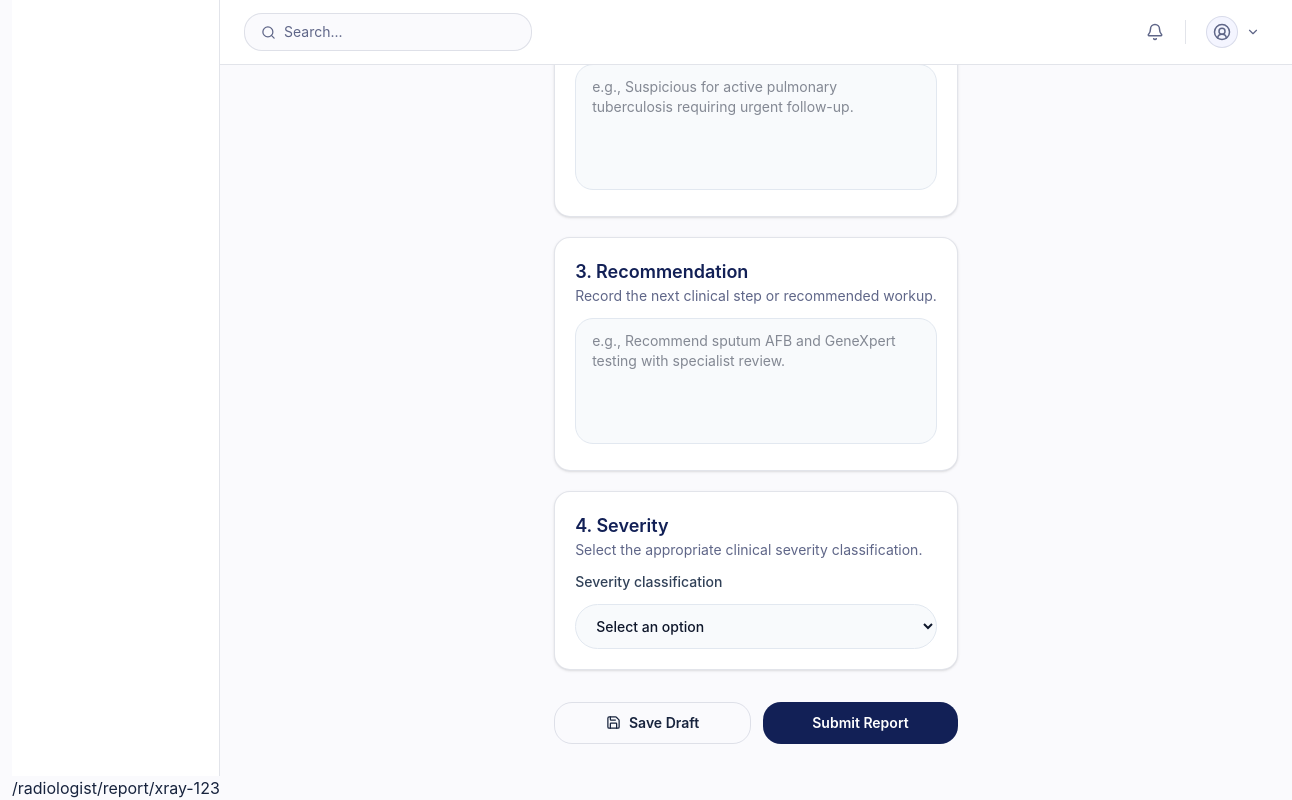
Test: ReportWritePage › clears a field error once the user types into the flagged field
(page scrolled)
Click the button "Submit Report" at (860, 722), box [763,702,958,744]
(page scrolled)
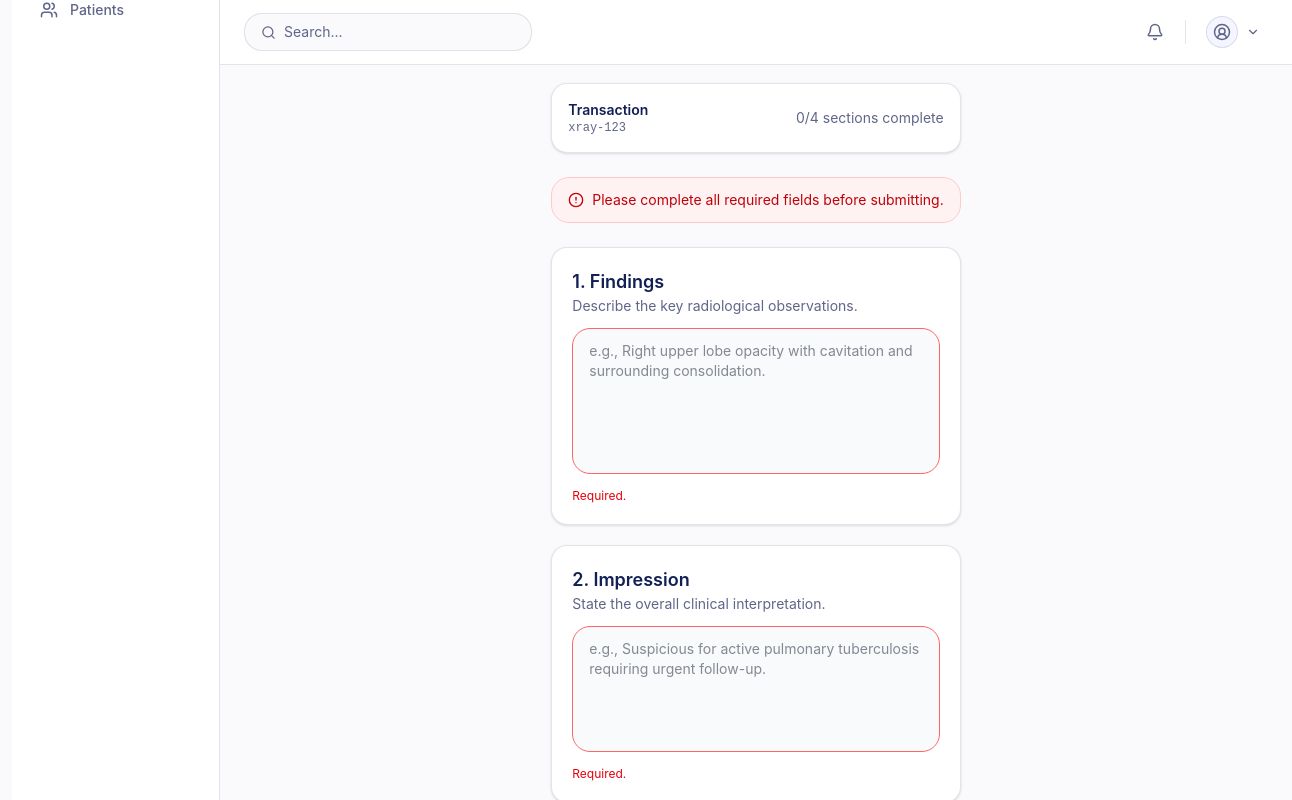
Check: the text "Required." is shown 4 times
Type "Right upper lobe opacity with cavitation." into the text box with placeholder "e.g., Right upper lobe opacity with cavitation and surrounding consolidation." at (756, 400), box [572,328,940,474]
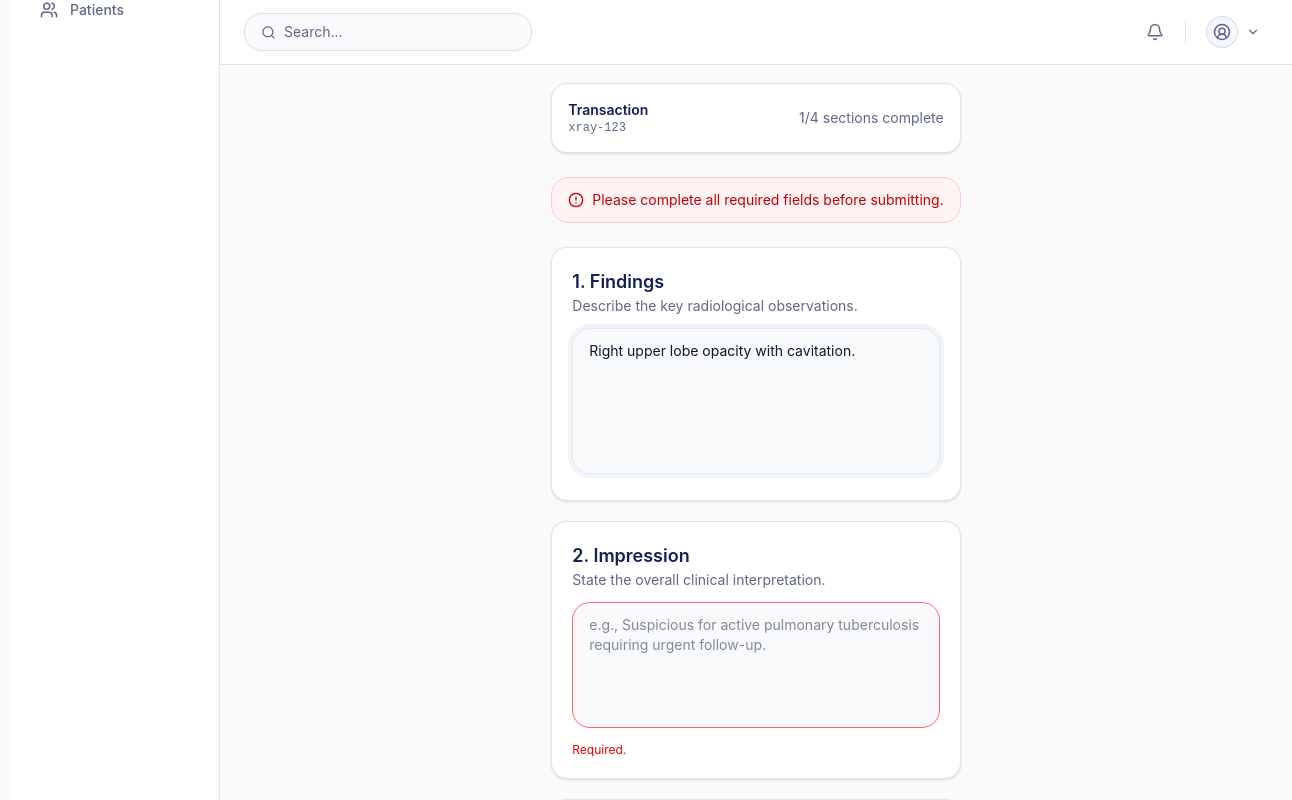
Check: the text "Required." is shown 3 times
